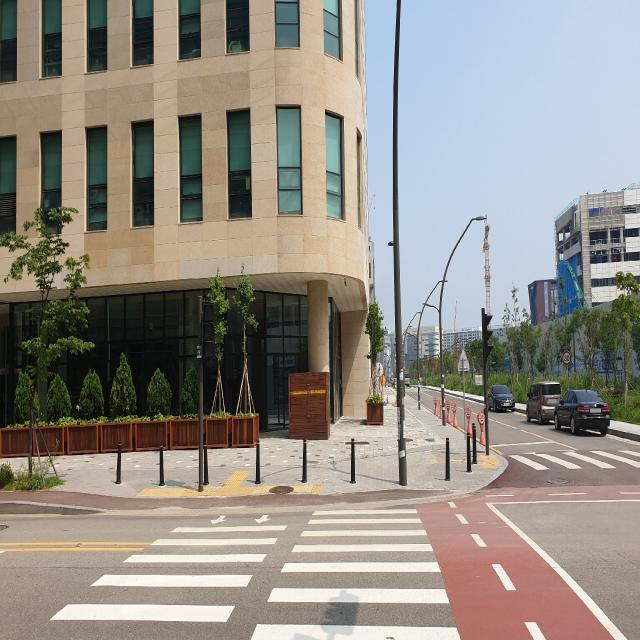횡단보도: (48, 504, 466, 640), (502, 446, 640, 483)
